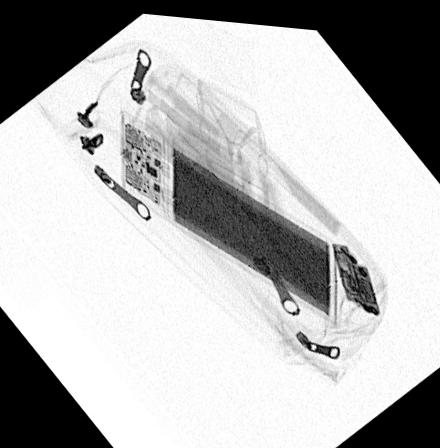Powerbank: (122, 106, 336, 321)
